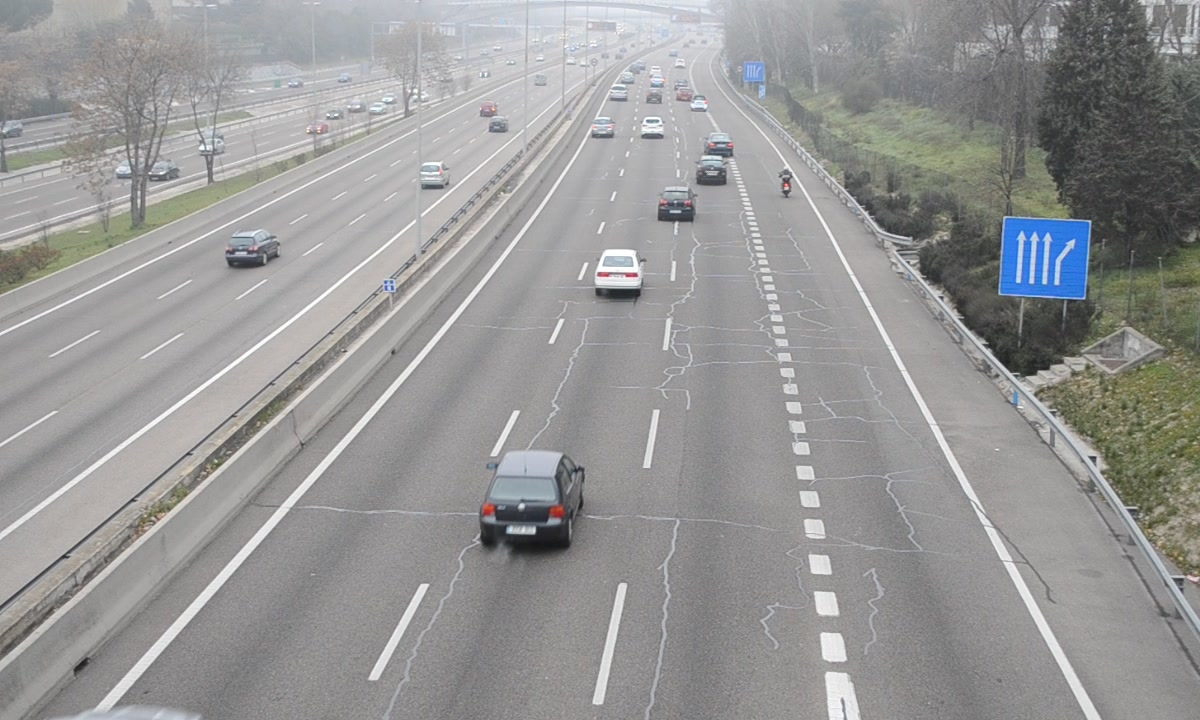car: (482, 451, 584, 543), (594, 248, 644, 292), (658, 186, 697, 222), (696, 155, 728, 187), (705, 131, 736, 156), (639, 115, 666, 139), (590, 116, 615, 138)
motorcycle: (778, 166, 795, 200)
